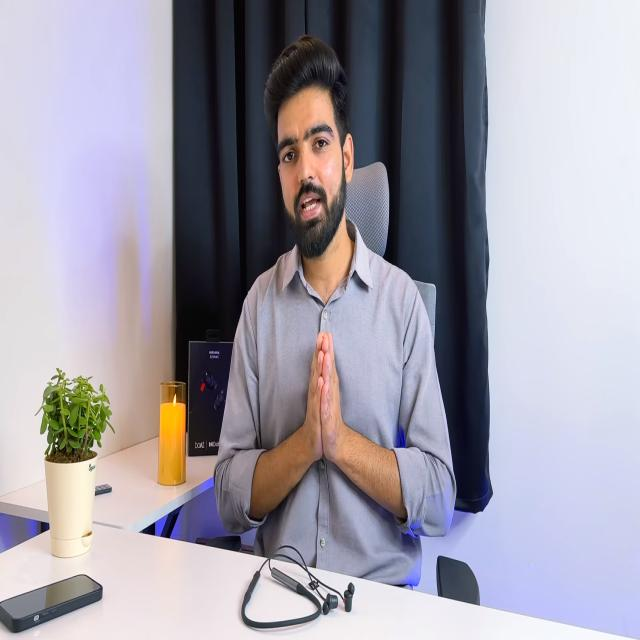Neckband: (240, 544, 355, 631)
